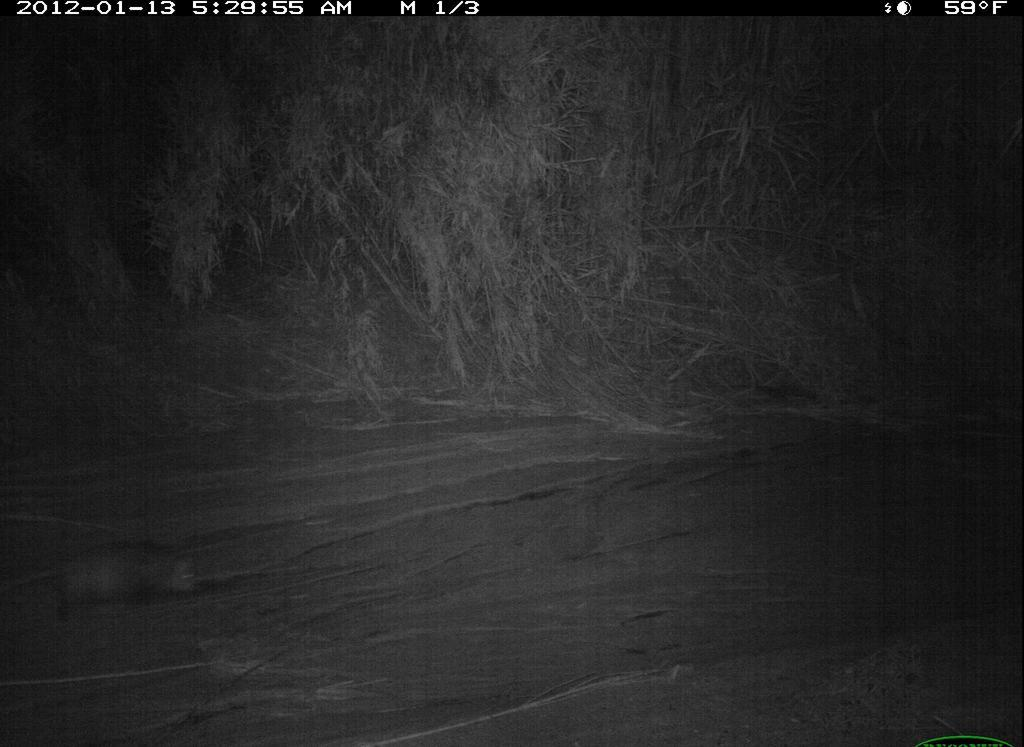opossum: (33, 523, 213, 642)
